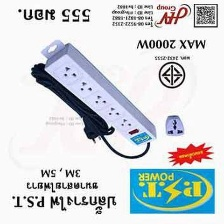three_eye_plug: (42, 37, 159, 149), (163, 113, 189, 139)
